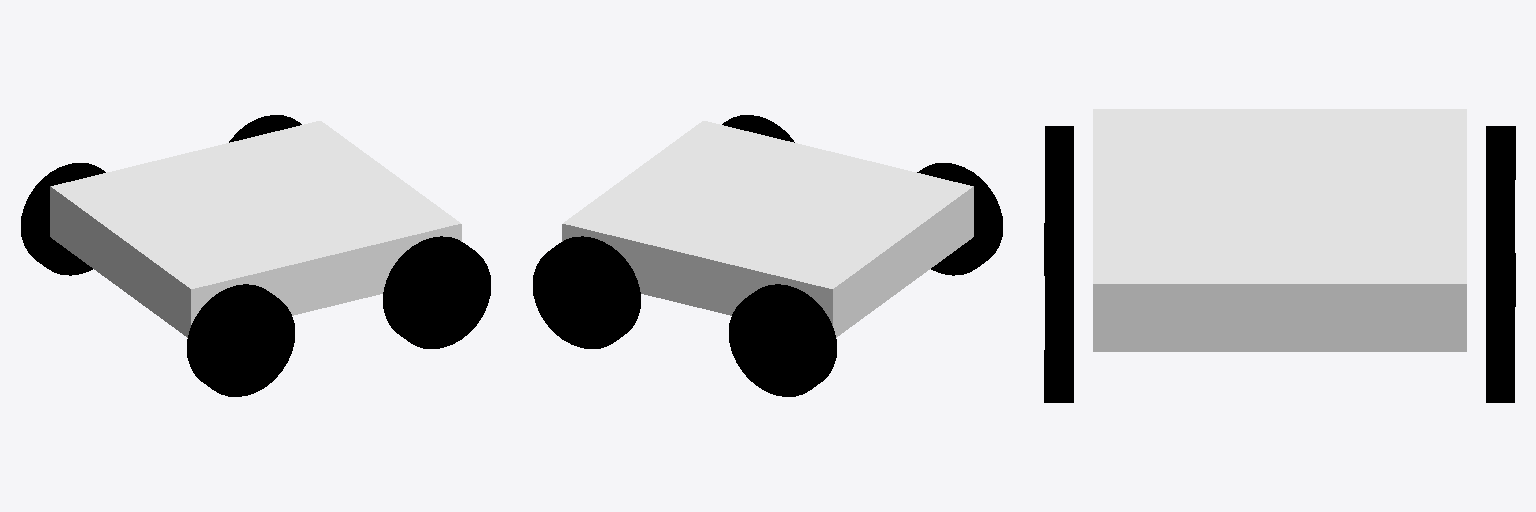
robot.urdf — diode_robot:
<?xml version="1.0" ?>
<robot name="diode_robot">

    <link name="base_link">
        <visual>
            <origin xyz=" 0 0 0.15" rpy="0 0 0" />
            <geometry>
                <box size="0.554 0.500 0.1"/>
            </geometry>
            <material name="white">
                <color rgba="1 1 1 1"/>
            </material>
        </visual>
    </link>   

    <joint name="left_wheel_joint" type="continuous">
        <origin xyz="-0.201 0.295 0.1" rpy="1.57 0 0"/>
        <parent link="base_link"/>
        <child link="left_wheel_link"/>
        <axis xyz="0 1 0"/>
    </joint>

    <link name="left_wheel_link">
        <visual>
            <origin xyz="0 0 0" rpy="0 0 0" />
            <geometry>
                <cylinder radius="0.1" length = "0.04"/>
            </geometry>
            <material name="black">
                <color rgba="0 0 0 1"/>
            </material>
        </visual>
    </link>

    <joint name="right_wheel_joint" type="continuous">
        <origin xyz="-0.201 -0.295 0.1" rpy="1.57 0 0"/>
        <parent link="base_link"/>
        <child link="right_wheel_link"/>
        <axis xyz="0 1 0"/>
    </joint>

    <link name="right_wheel_link">
        <visual>
            <origin xyz="0 0 0" rpy="0 0 0" />
            <geometry>
                <cylinder radius="0.1" length = "0.04"/>
            </geometry>
            <material name="black">
                <color rgba="0 0 0 1"/>
            </material>
        </visual>
    </link>

      <joint name="left_front_joint" type="continuous">
        <origin xyz="0.201 0.295 0.1" rpy="1.57 0 0"/>
        <parent link="base_link"/>
        <child link="left_front_link"/>
        <axis xyz="0 1 0"/>
    </joint>

    <link name="left_front_link">
        <visual>
            <origin xyz="0 0 0" rpy="0 0 0" />
            <geometry>
                <cylinder radius="0.1" length = "0.04"/>
            </geometry>
            <material name="black">
                <color rgba="0 0 0 1"/>
            </material>
        </visual>
    </link>

    <joint name="right_front_joint" type="continuous">
        <origin xyz="0.201 -0.295 0.1" rpy="1.57 0 0"/>
        <parent link="base_link"/>
        <child link="right_front_link"/>
        <axis xyz="0 1 0"/>
    </joint>

    <link name="right_front_link">
        <visual>
            <origin xyz="0 0 0" rpy="0 0 0" />
            <geometry>
                <cylinder radius="0.1" length = "0.04"/>
            </geometry>
            <material name="black">
                <color rgba="0 0 0 1"/>
            </material>
        </visual>
    </link>


</robot>

--- What the picture shows (computed from the rendered views, not written in the file) ---
The picture shows the robot from 3 angles, left to right: view 1: azimuth 30°, elevation 25°; view 2: azimuth 150°, elevation 25°; view 3: azimuth 270°, elevation 25°; orthographic projection.
Model diode_robot with 5 links and 4 joints (4 continuous), rooted at base_link, posed every joint at zero.
Visible links, largest first — view 1: base_link, right_front_link, right_wheel_link, left_wheel_link, left_front_link; view 2: base_link, left_front_link, left_wheel_link, right_wheel_link, right_front_link; view 3: base_link, left_front_link, right_front_link, left_wheel_link, right_wheel_link.
Link boxes in pixels (left/top/right/bottom): base_link: left=50, top=121, right=461, bottom=337; right_front_link: left=383, top=236, right=490, bottom=348; right_wheel_link: left=187, top=284, right=294, bottom=396; left_wheel_link: left=21, top=163, right=105, bottom=275; left_front_link: left=229, top=115, right=301, bottom=142; base_link: left=562, top=121, right=973, bottom=337; left_front_link: left=533, top=236, right=640, bottom=348; left_wheel_link: left=729, top=284, right=836, bottom=396; right_wheel_link: left=917, top=163, right=1002, bottom=275; right_front_link: left=722, top=115, right=794, bottom=142; base_link: left=1093, top=109, right=1466, bottom=351; left_front_link: left=1486, top=253, right=1515, bottom=402; right_front_link: left=1044, top=253, right=1073, bottom=402; left_wheel_link: left=1486, top=126, right=1515, bottom=252; right_wheel_link: left=1044, top=126, right=1073, bottom=275.
Bounding box of the posed robot: 0.602 × 0.6302 × 0.2 m (x, y, z).
Geometry: primitives only (box / cylinder / sphere), no mesh files.